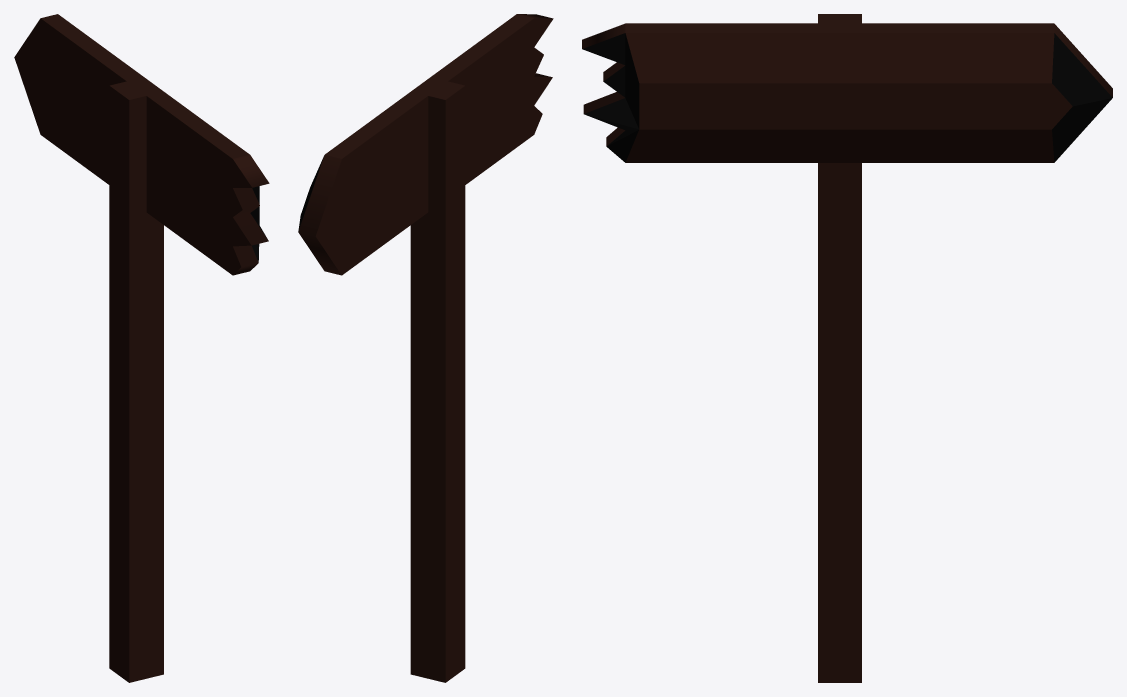
The model's file is placa.FBX.
3 views of the same model, side by side, from view 1: azimuth 30°, elevation 25°; view 2: azimuth 150°, elevation 25°; view 3: azimuth 270°, elevation 25° (orthographic). The views are drawn at different scales.
Visible parts, largest first — view 1: Box001; view 2: Box001; view 3: Box001.
Part boxes in pixels (x1,y1,x2,y2): Box001: (14, 14, 269, 682); Box001: (298, 14, 553, 682); Box001: (582, 14, 1112, 682).
Bounding box in the file's own units: 7.02 × 77.61 × 57.45.
